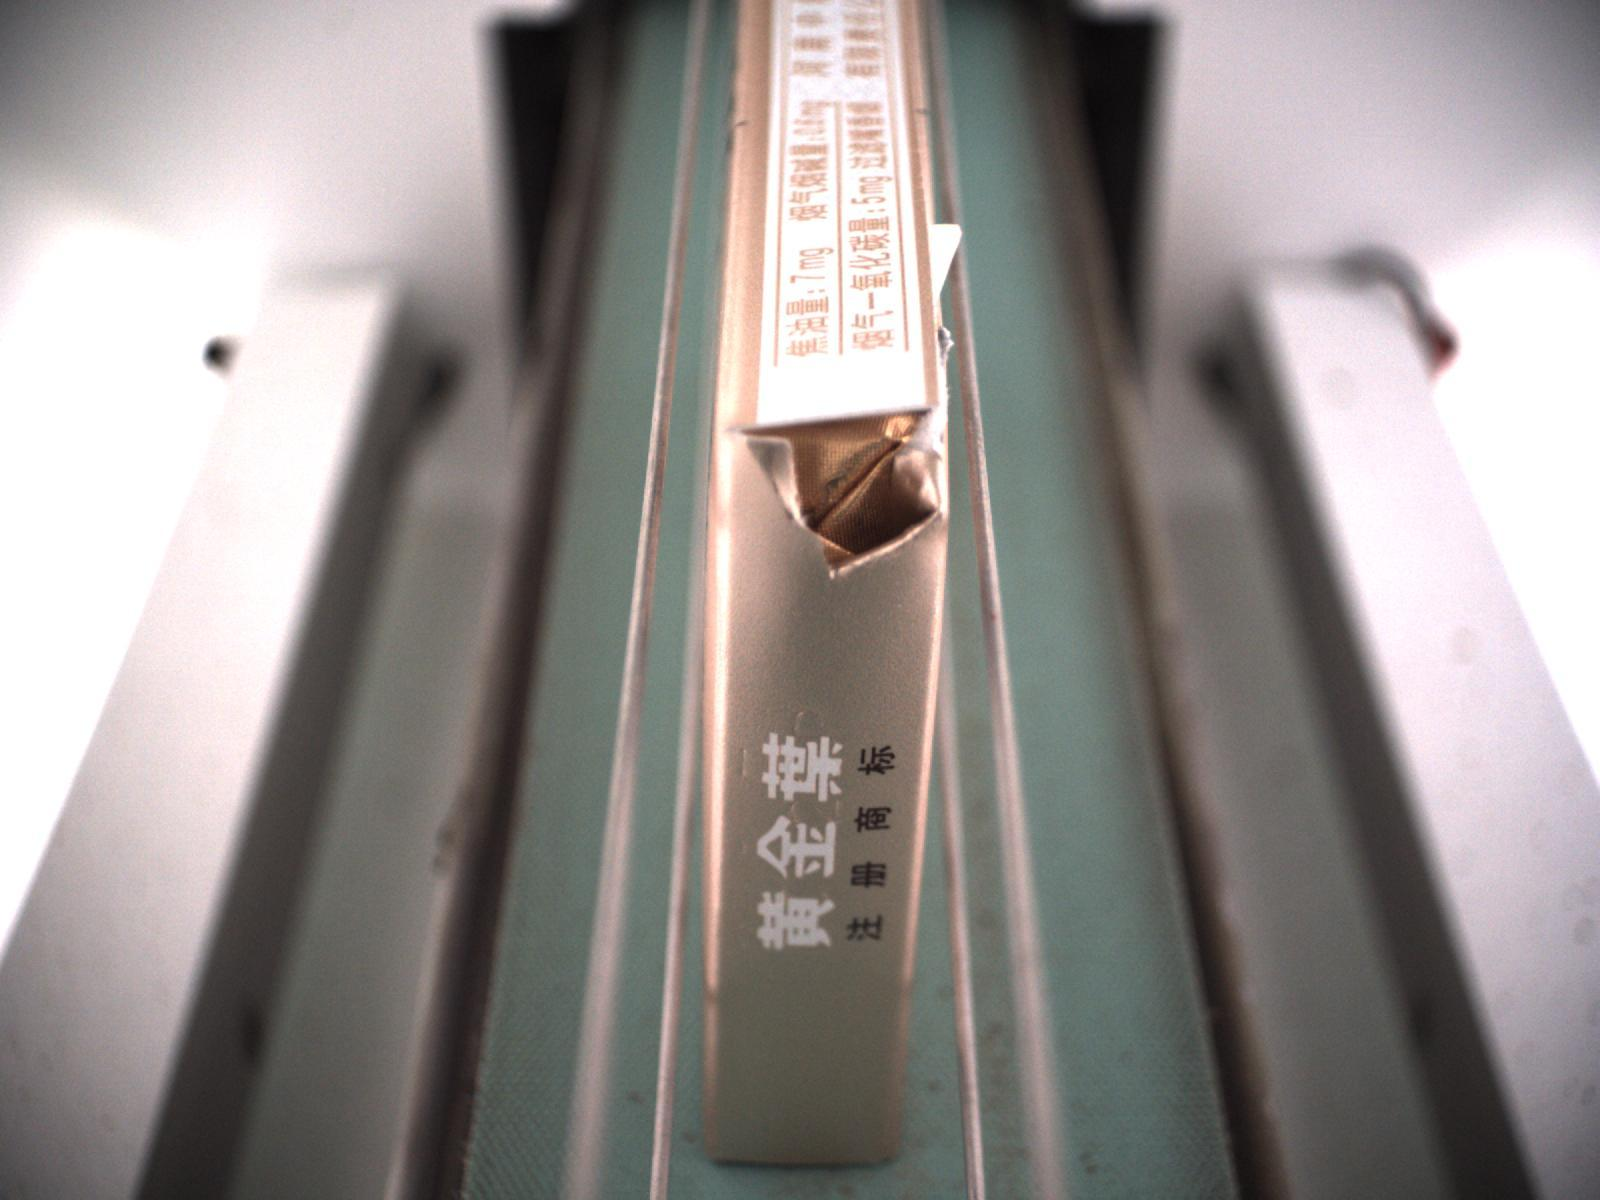headOpen_upper: (711, 398, 954, 575)
